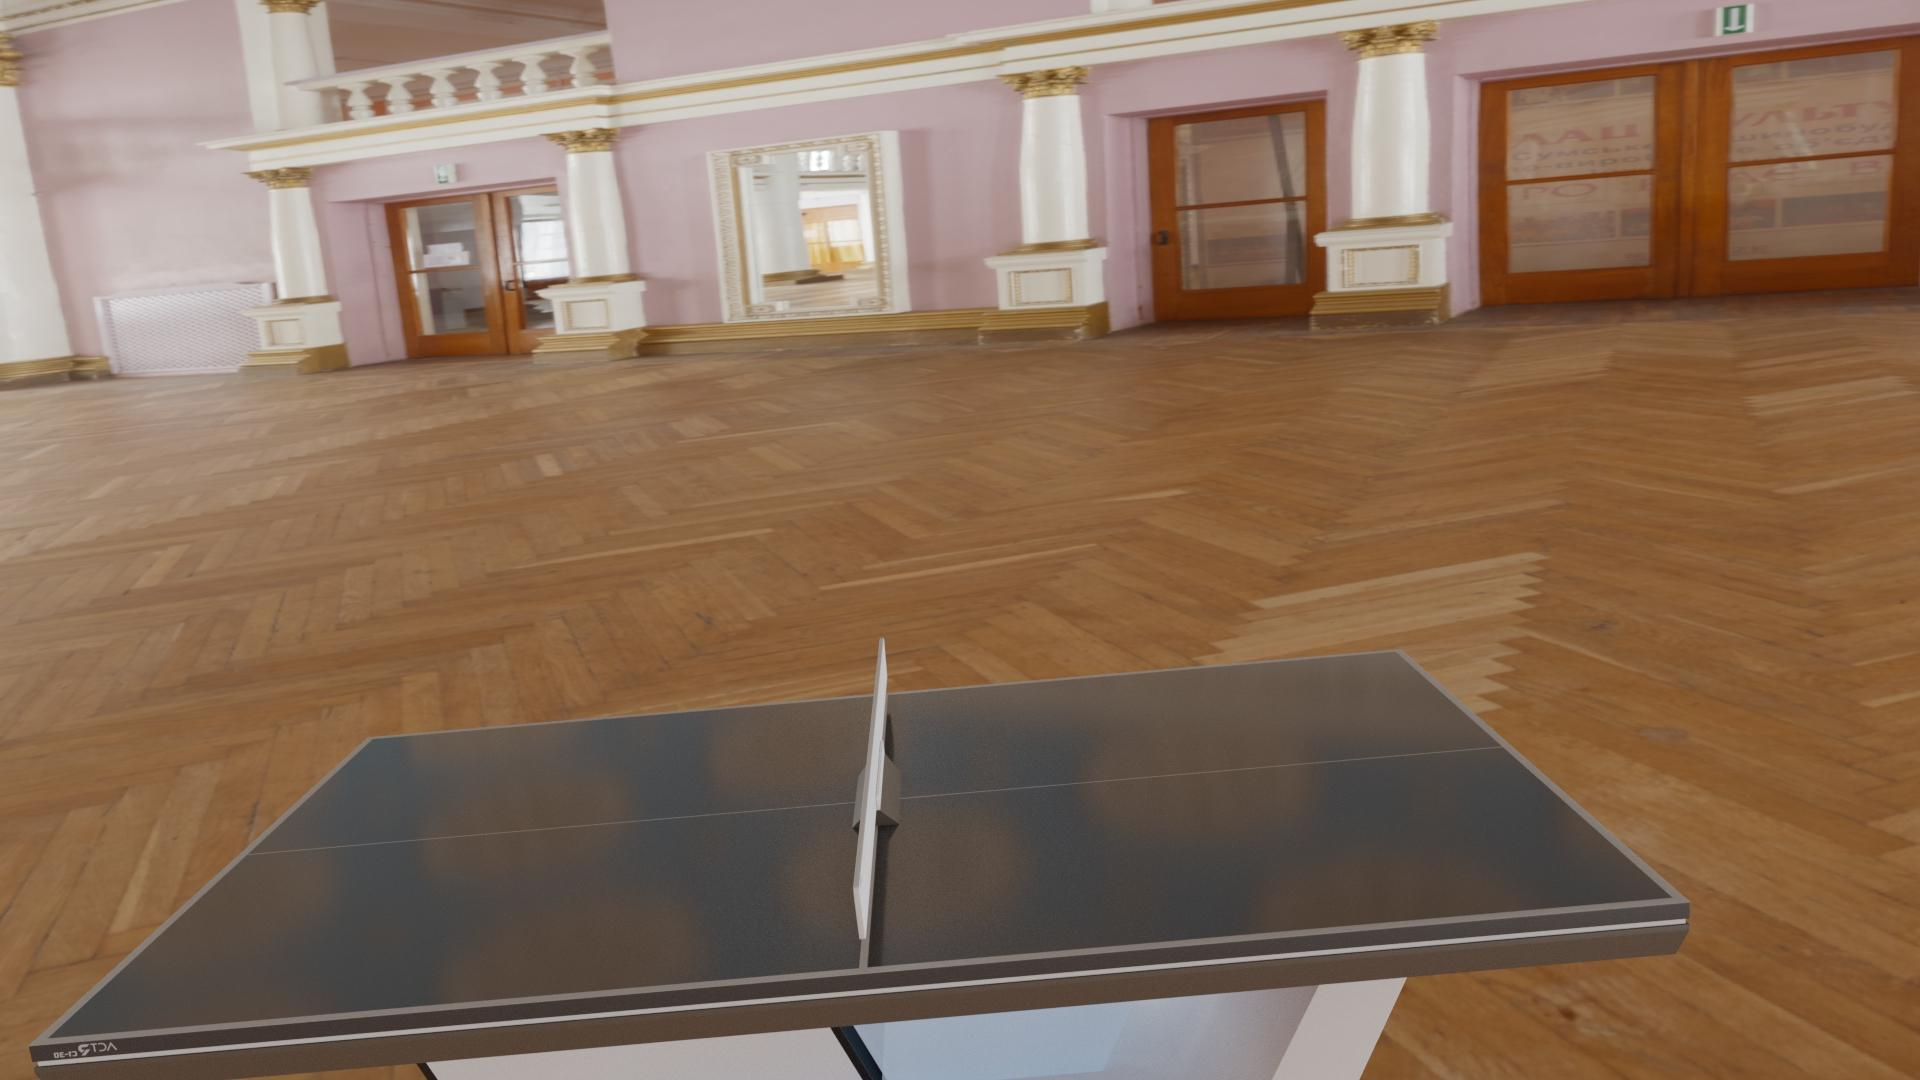table: (47, 651, 1672, 1039)
